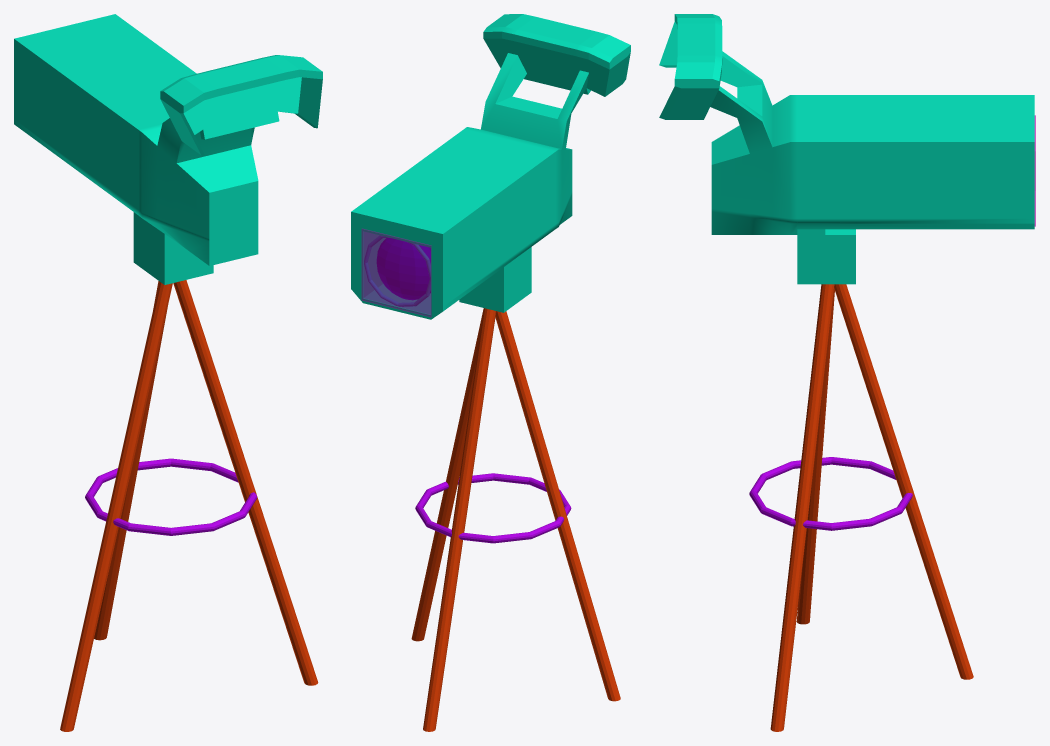
The model's file is camera.fbx.
3 views of the same model, side by side, from view 1: azimuth 30°, elevation 25°; view 2: azimuth 150°, elevation 25°; view 3: azimuth 270°, elevation 25° (orthographic). The views are drawn at different scales.
Parts seen in each view (by area): view 1: pSphere2, pasted__pasted__pasted__pasted__pCylinder1; view 2: pSphere2, pasted__pasted__pasted__pasted__pCylinder1; view 3: pSphere2, pasted__pasted__pasted__pasted__pCylinder1.
Boxes of the visible parts, <box> form: pSphere2: <box>14,14,322,284</box>; pasted__pasted__pasted__pasted__pCylinder1: <box>60,280,318,731</box>; pSphere2: <box>351,14,630,319</box>; pasted__pasted__pasted__pasted__pCylinder1: <box>411,308,620,731</box>; pSphere2: <box>659,14,1035,284</box>; pasted__pasted__pasted__pasted__pCylinder1: <box>749,284,973,731</box>.
Size of the model in its own units: 29.79 by 78.31 by 41.95.
